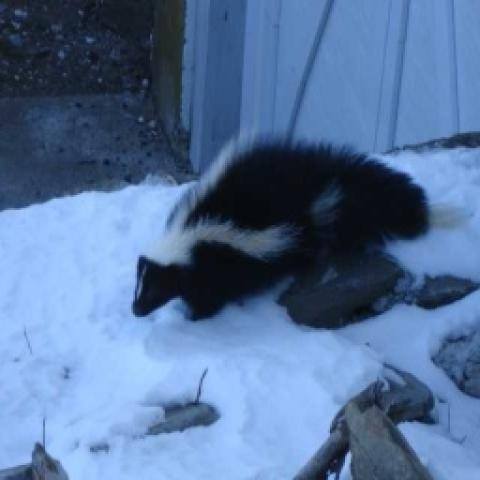small_animal: (128, 128, 478, 330)
